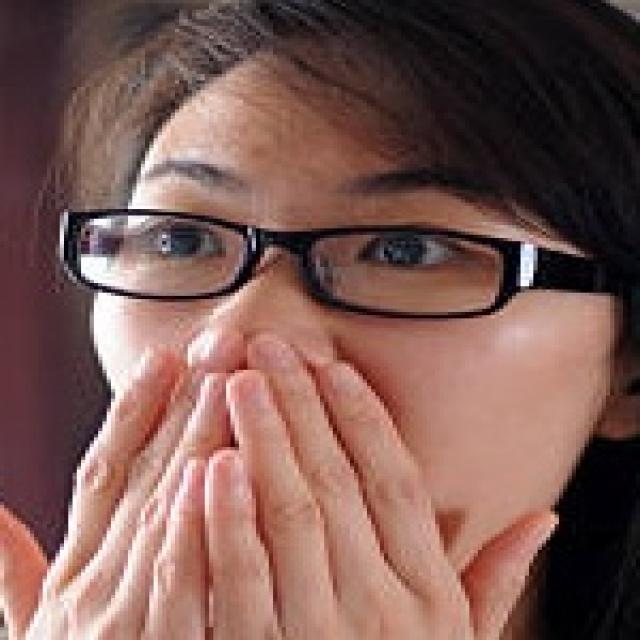Anxiety: (4, 36, 611, 637)
